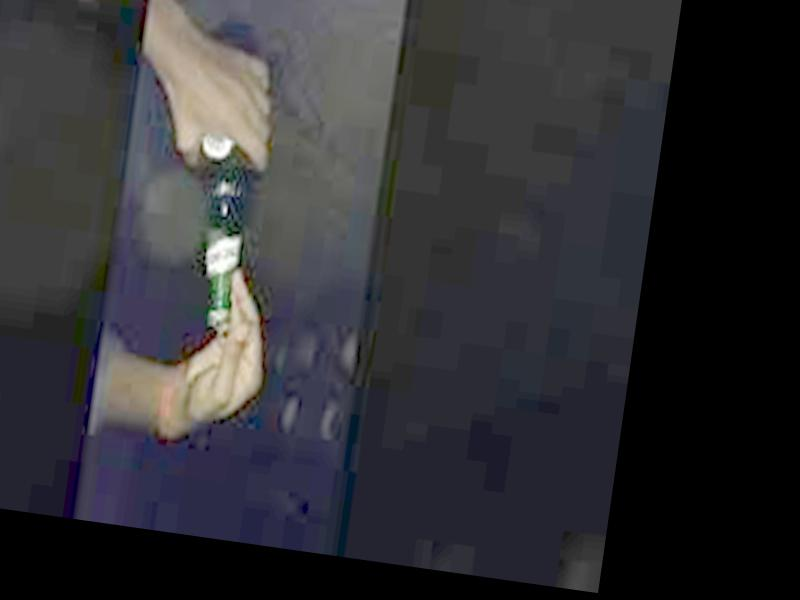Beer: (162, 21, 278, 328)
